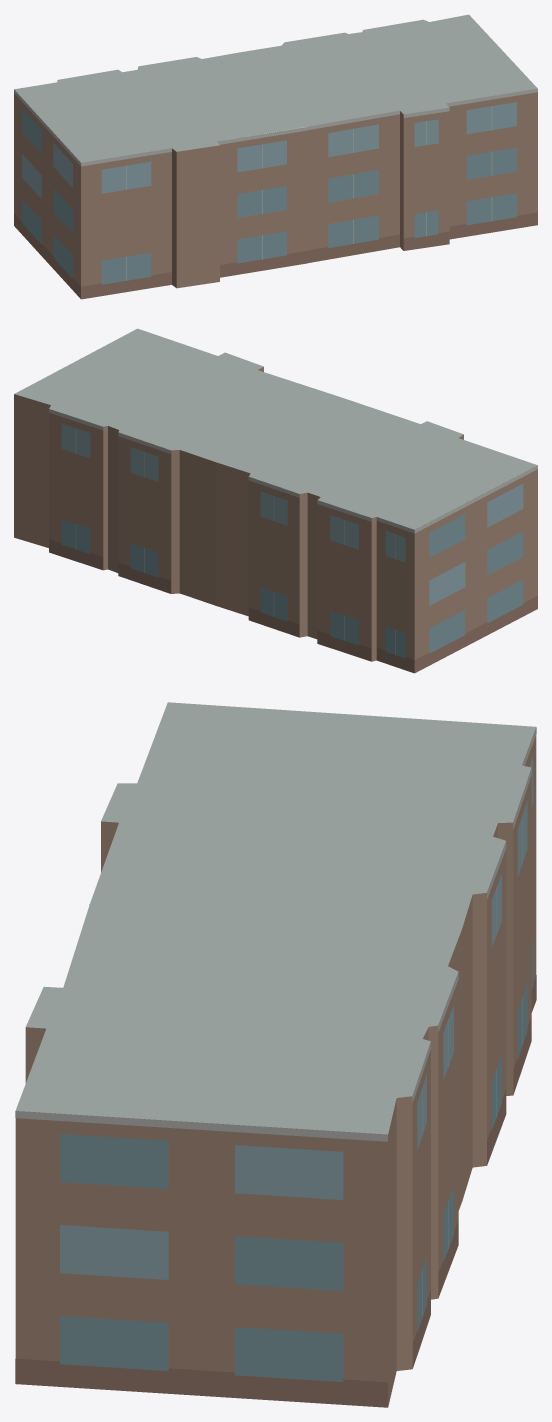
The model's file is survey-upis-33023989.glb.
3 views of the same model, one above another, from view 1: azimuth 30°, elevation 25°; view 2: azimuth 150°, elevation 25°; view 3: azimuth 270°, elevation 25° (orthographic). The views are drawn at different scales.
Visible parts, largest first — view 1: survey-upis-33023989.tmp; view 2: survey-upis-33023989.tmp; view 3: survey-upis-33023989.tmp.
Boxes of the visible parts, left/top/right/bottom form: survey-upis-33023989.tmp: left=14, top=14, right=537, bottom=299; survey-upis-33023989.tmp: left=14, top=328, right=537, bottom=673; survey-upis-33023989.tmp: left=15, top=702, right=536, bottom=1407.
Size of the model in its own units: 31.07 by 9.15 by 15.83.
